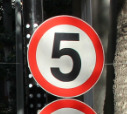speed_limit_5: (27, 15, 104, 99)
